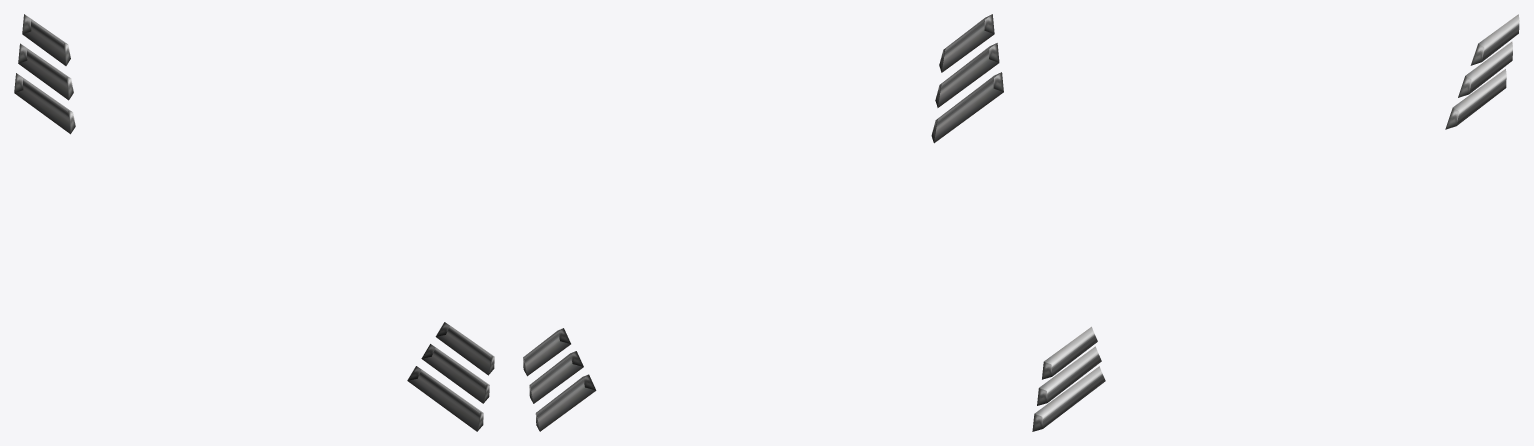
The model's file is wg_r_lr_slv1.glb.
3 renders of one model, left to right at view 1: azimuth 30°, elevation 25°; view 2: azimuth 150°, elevation 25°; view 3: azimuth 330°, elevation 25°, orthographic.
Parts seen in each view (by area): view 1: wg_r_lr_slv1; view 2: wg_r_lr_slv1; view 3: wg_r_lr_slv1.
Boxes of the visible parts, box(x1,y1,x2,y2) form: wg_r_lr_slv1: box(14, 14, 494, 431); wg_r_lr_slv1: box(523, 14, 1003, 431); wg_r_lr_slv1: box(1032, 14, 1519, 431).
Bounding box in the file's own units: 0.0537 × 0.2063 × 2.37.
Materials: 1 (1 with a texture image).
